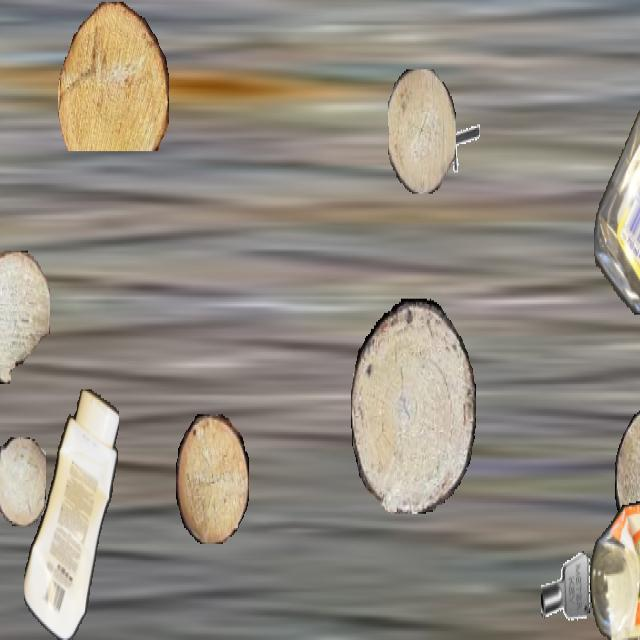glass: (0, 489, 8, 638)
metal: (541, 544, 591, 633), (442, 108, 480, 176)
plastic: (24, 390, 118, 638), (594, 2, 640, 314), (590, 496, 640, 638)
wood: (351, 299, 475, 512), (58, 2, 168, 151), (176, 414, 248, 542), (388, 69, 456, 194), (0, 251, 50, 382), (0, 438, 46, 526), (615, 407, 640, 557)
